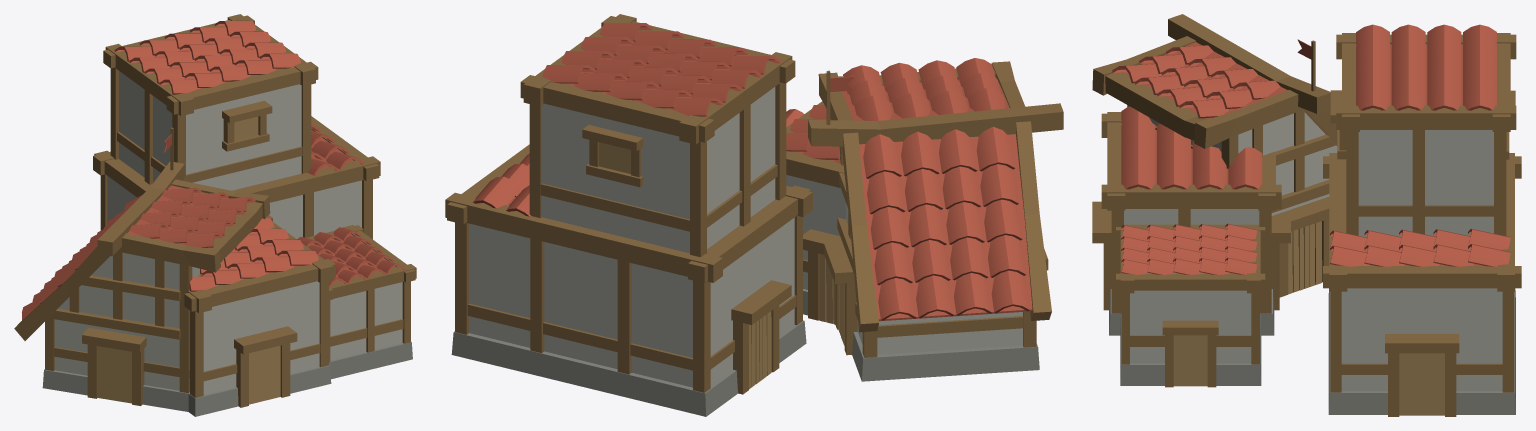
File: house1.glb
3 views of the same model, side by side, from view 1: azimuth 30°, elevation 25°; view 2: azimuth 150°, elevation 25°; view 3: azimuth 270°, elevation 25° (orthographic). The views are drawn at different scales.
Parts seen in each view (by area): view 1: Houses_SecondAge_3_Level3, Houses_SecondAge_2_Level1; view 2: Houses_SecondAge_3_Level3, Houses_SecondAge_2_Level1; view 3: Houses_SecondAge_3_Level3, Houses_SecondAge_2_Level1.
Boxes of the visible parts, box(x1,y1,x2,y2) form: Houses_SecondAge_3_Level3: box(93, 14, 416, 416); Houses_SecondAge_2_Level1: box(14, 127, 270, 411); Houses_SecondAge_3_Level3: box(445, 14, 845, 416); Houses_SecondAge_2_Level1: box(808, 58, 1063, 381); Houses_SecondAge_3_Level3: box(1092, 24, 1521, 416); Houses_SecondAge_2_Level1: box(1092, 14, 1337, 297).
Bounding box in the file's own units: 1.82 × 1.06 × 1.46.
